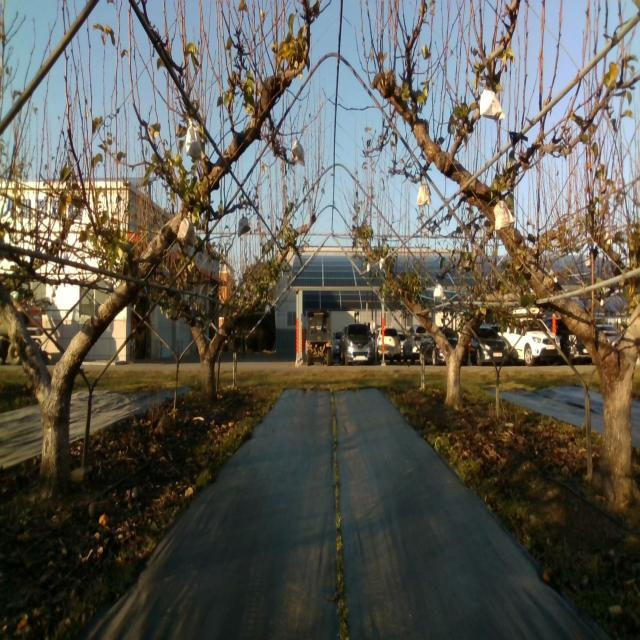pearbags: (480, 88, 505, 122), (493, 198, 515, 231), (186, 118, 202, 161), (177, 211, 195, 246), (291, 138, 305, 167), (416, 184, 432, 206), (238, 214, 250, 238)
